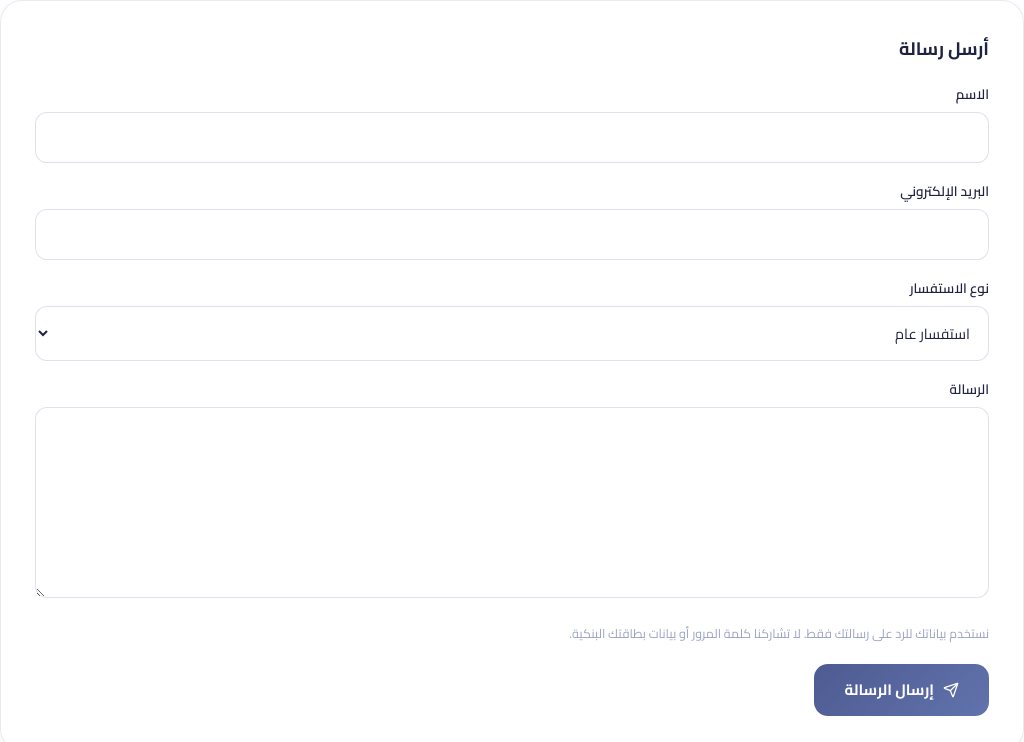
Test: a failed submission › keeps the typed text and shows a failure banner instead of a false success
Step 1. Type "سارة أحمد" into the field labelled "الاسم" → (512, 137), box [35,112,989,163]
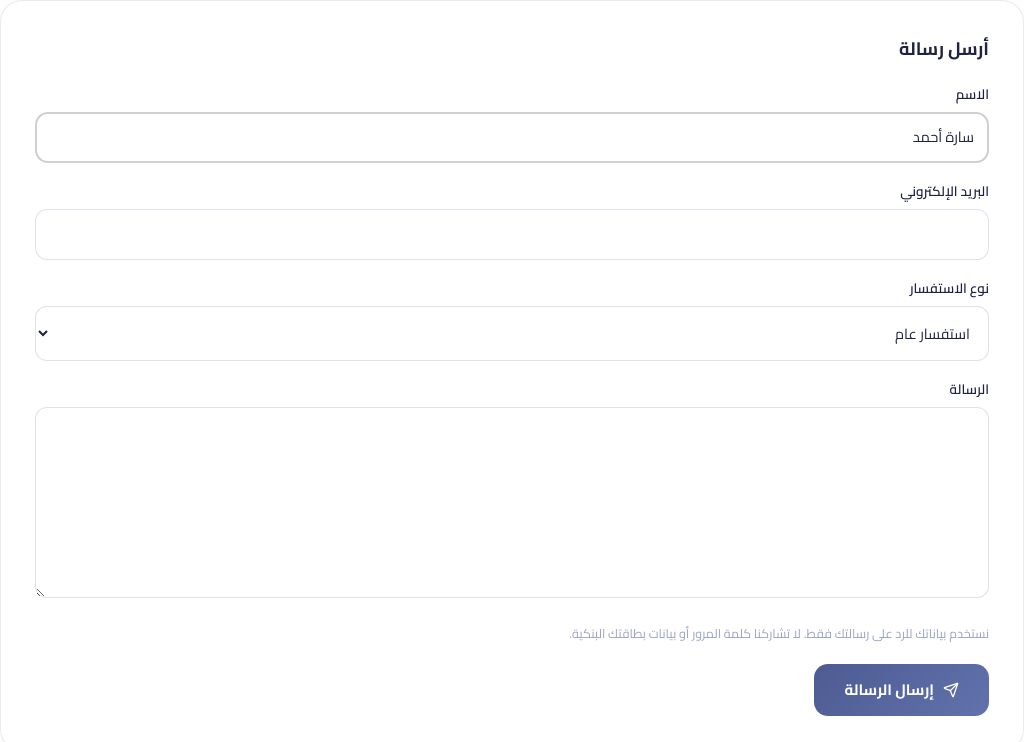
Step 2. Type "sara@example.com" into the field labelled "البريد الإلكتروني" → (512, 234), box [35,209,989,260]
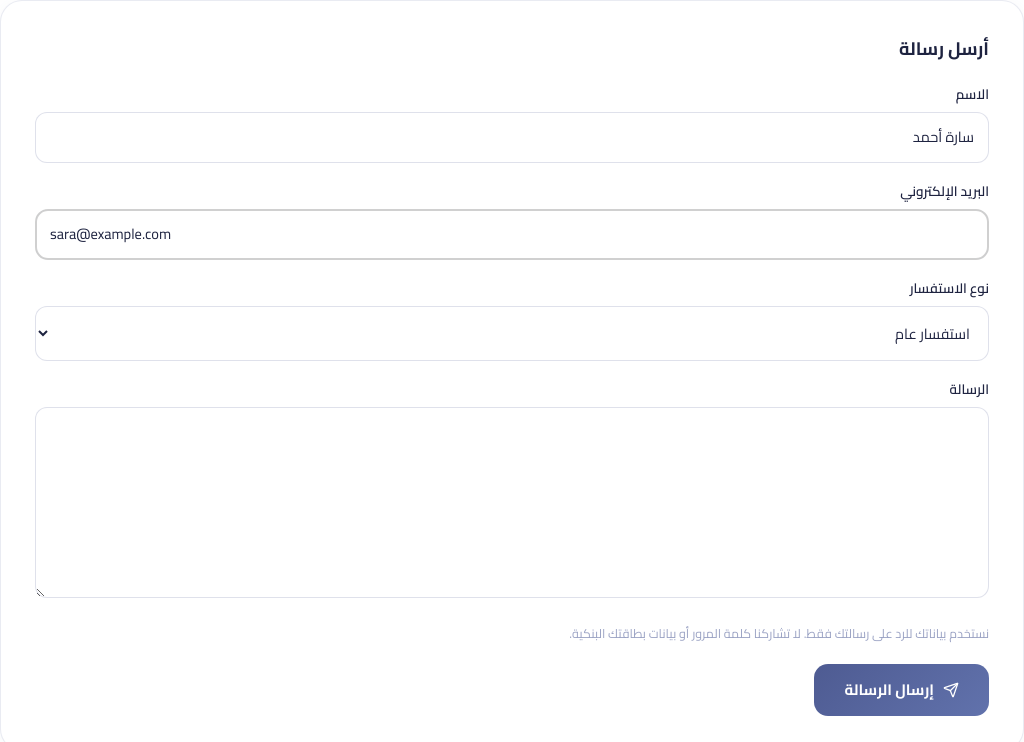
Step 3. Type "متى تبدأ الدورة القادمة؟" into the text box labelled "الرسالة" → (512, 503), box [35,407,989,598]
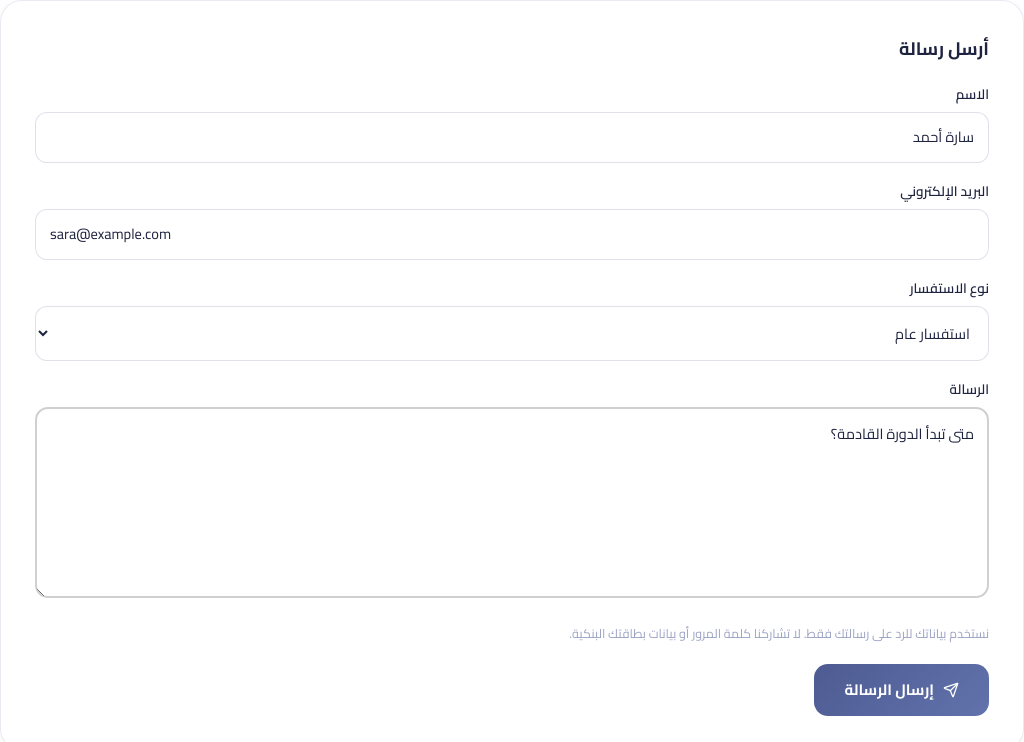
Step 4. Click the button "إرسال الرسالة" → (902, 690), box [814,664,989,716]
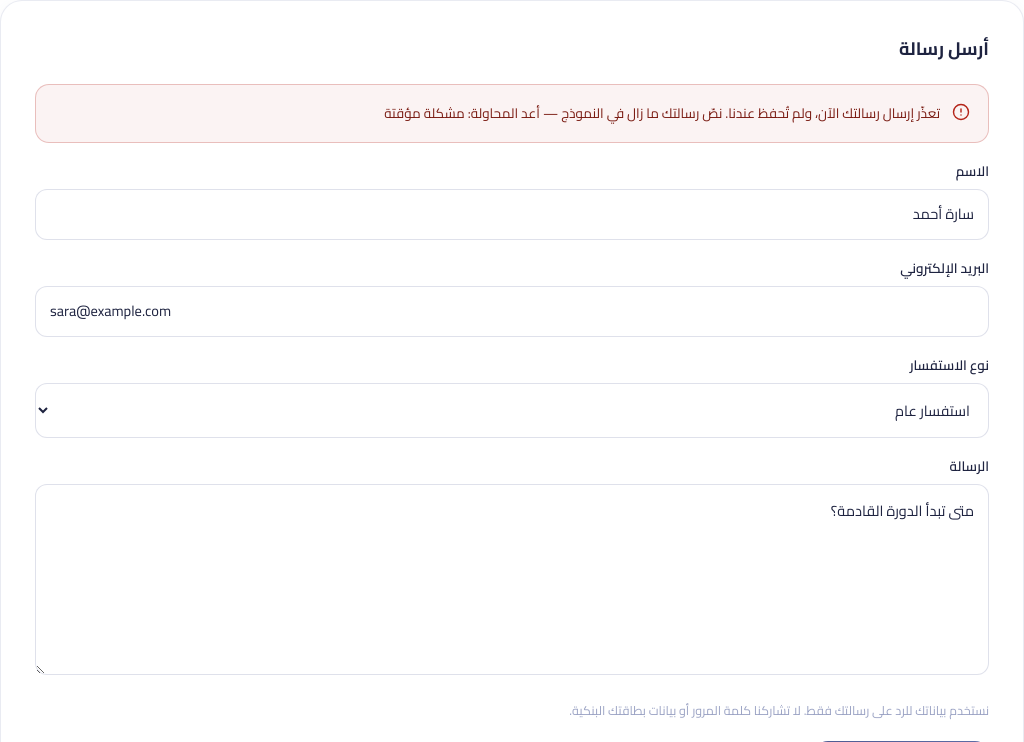
Now the message shows "تعذّر إرسال رسالتك الآن", box [471,100,940,126]
